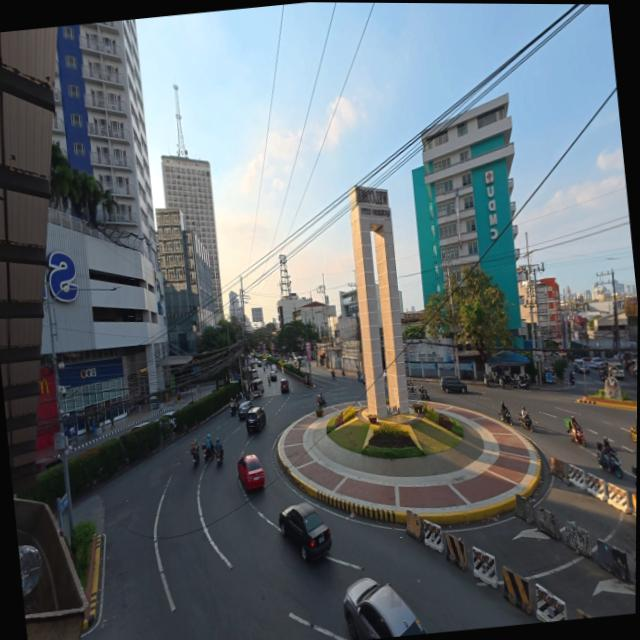Jeepneys: (250, 380, 262, 398)
car: (342, 579, 425, 639), (278, 503, 331, 560), (237, 454, 263, 490), (245, 406, 265, 433), (34, 455, 63, 473), (439, 376, 466, 393), (237, 401, 252, 420), (159, 411, 175, 428), (129, 422, 149, 432), (279, 378, 288, 393), (270, 369, 278, 383), (250, 368, 259, 380), (256, 361, 261, 367)
motorcycle: (564, 419, 585, 447), (518, 412, 533, 432), (596, 443, 607, 469), (498, 373, 513, 388), (190, 441, 199, 466), (499, 409, 512, 424), (202, 445, 213, 462), (483, 374, 498, 386), (516, 376, 528, 390), (214, 447, 223, 465), (316, 394, 327, 408), (229, 403, 239, 417), (406, 379, 415, 394), (419, 387, 429, 400), (598, 367, 606, 382), (630, 427, 636, 442), (632, 466, 636, 487), (568, 371, 574, 385), (408, 385, 415, 394), (331, 370, 334, 379), (341, 369, 344, 376)
